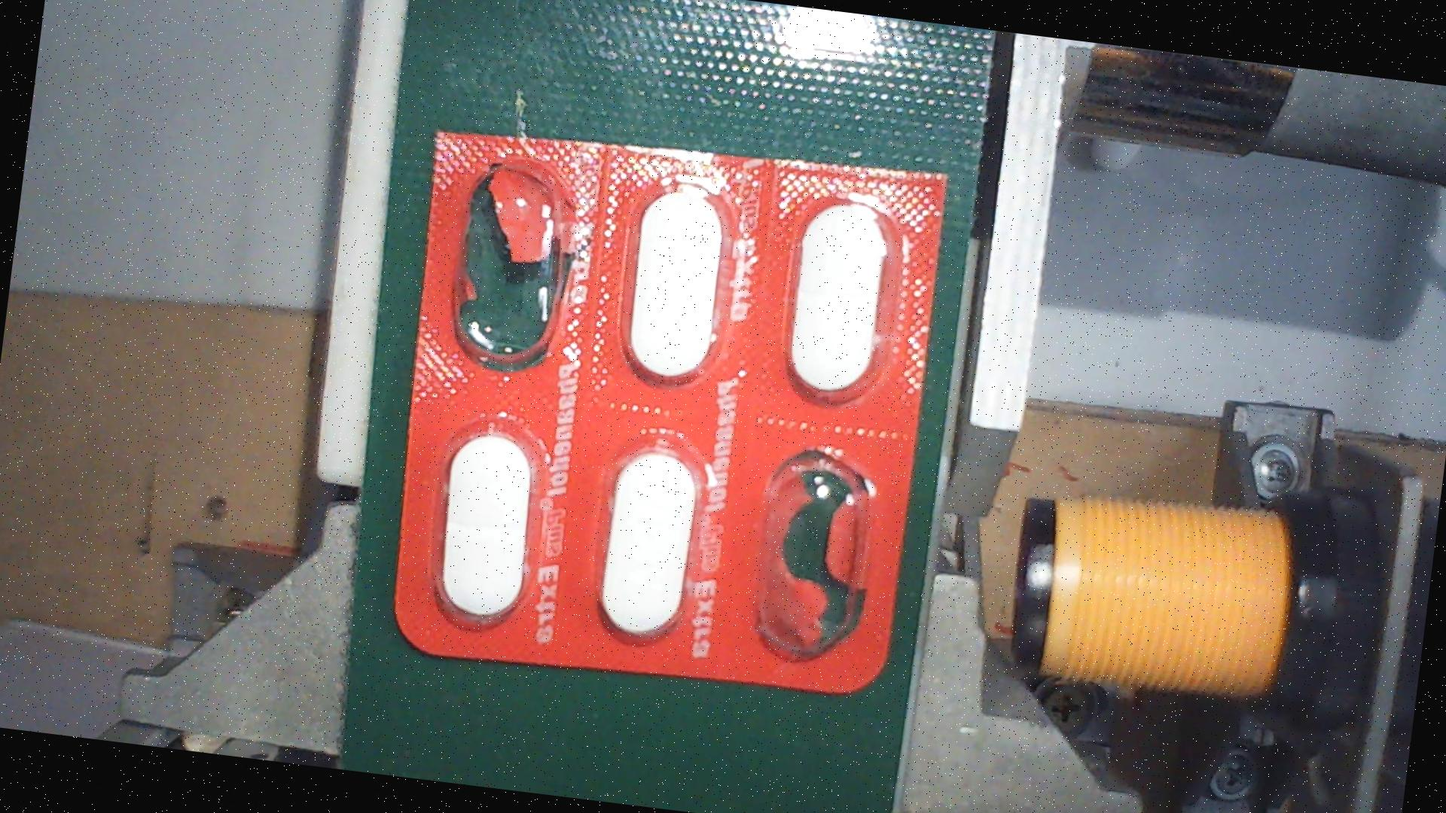Empty: (739, 441, 881, 667), (437, 151, 578, 376)
Full: (766, 188, 908, 413), (413, 408, 554, 633), (576, 424, 717, 649), (612, 165, 753, 390)
